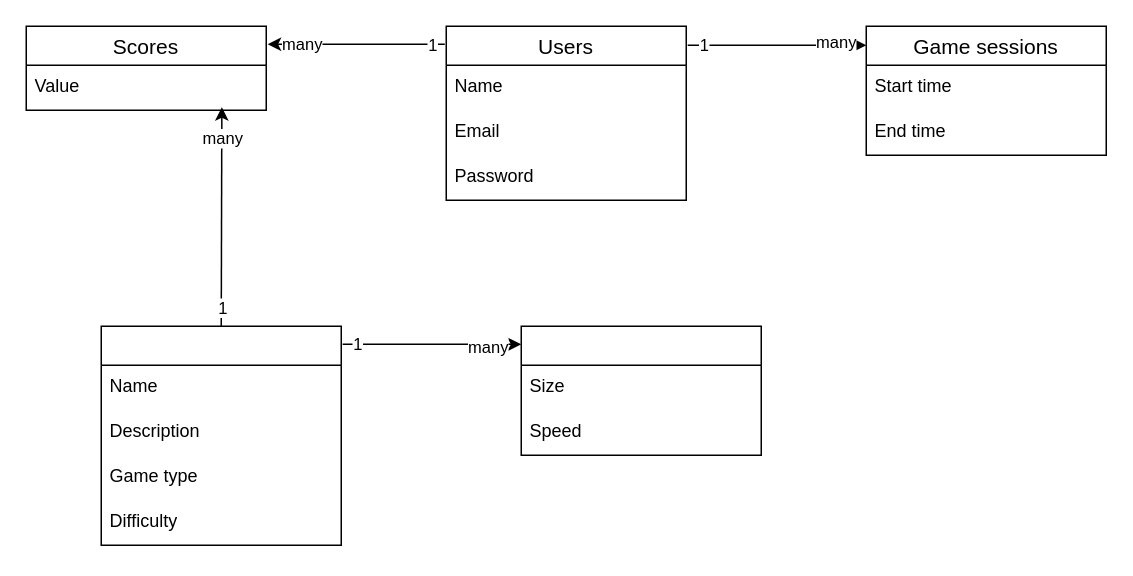
Some shapes in this 1133 by 576 pixel diagram are drawn without their labels. Here are the shapes that lost their labels. From the top down, the box of each, then its label:
(520, 325, 761, 455): Targets
(100, 325, 341, 545): Games
